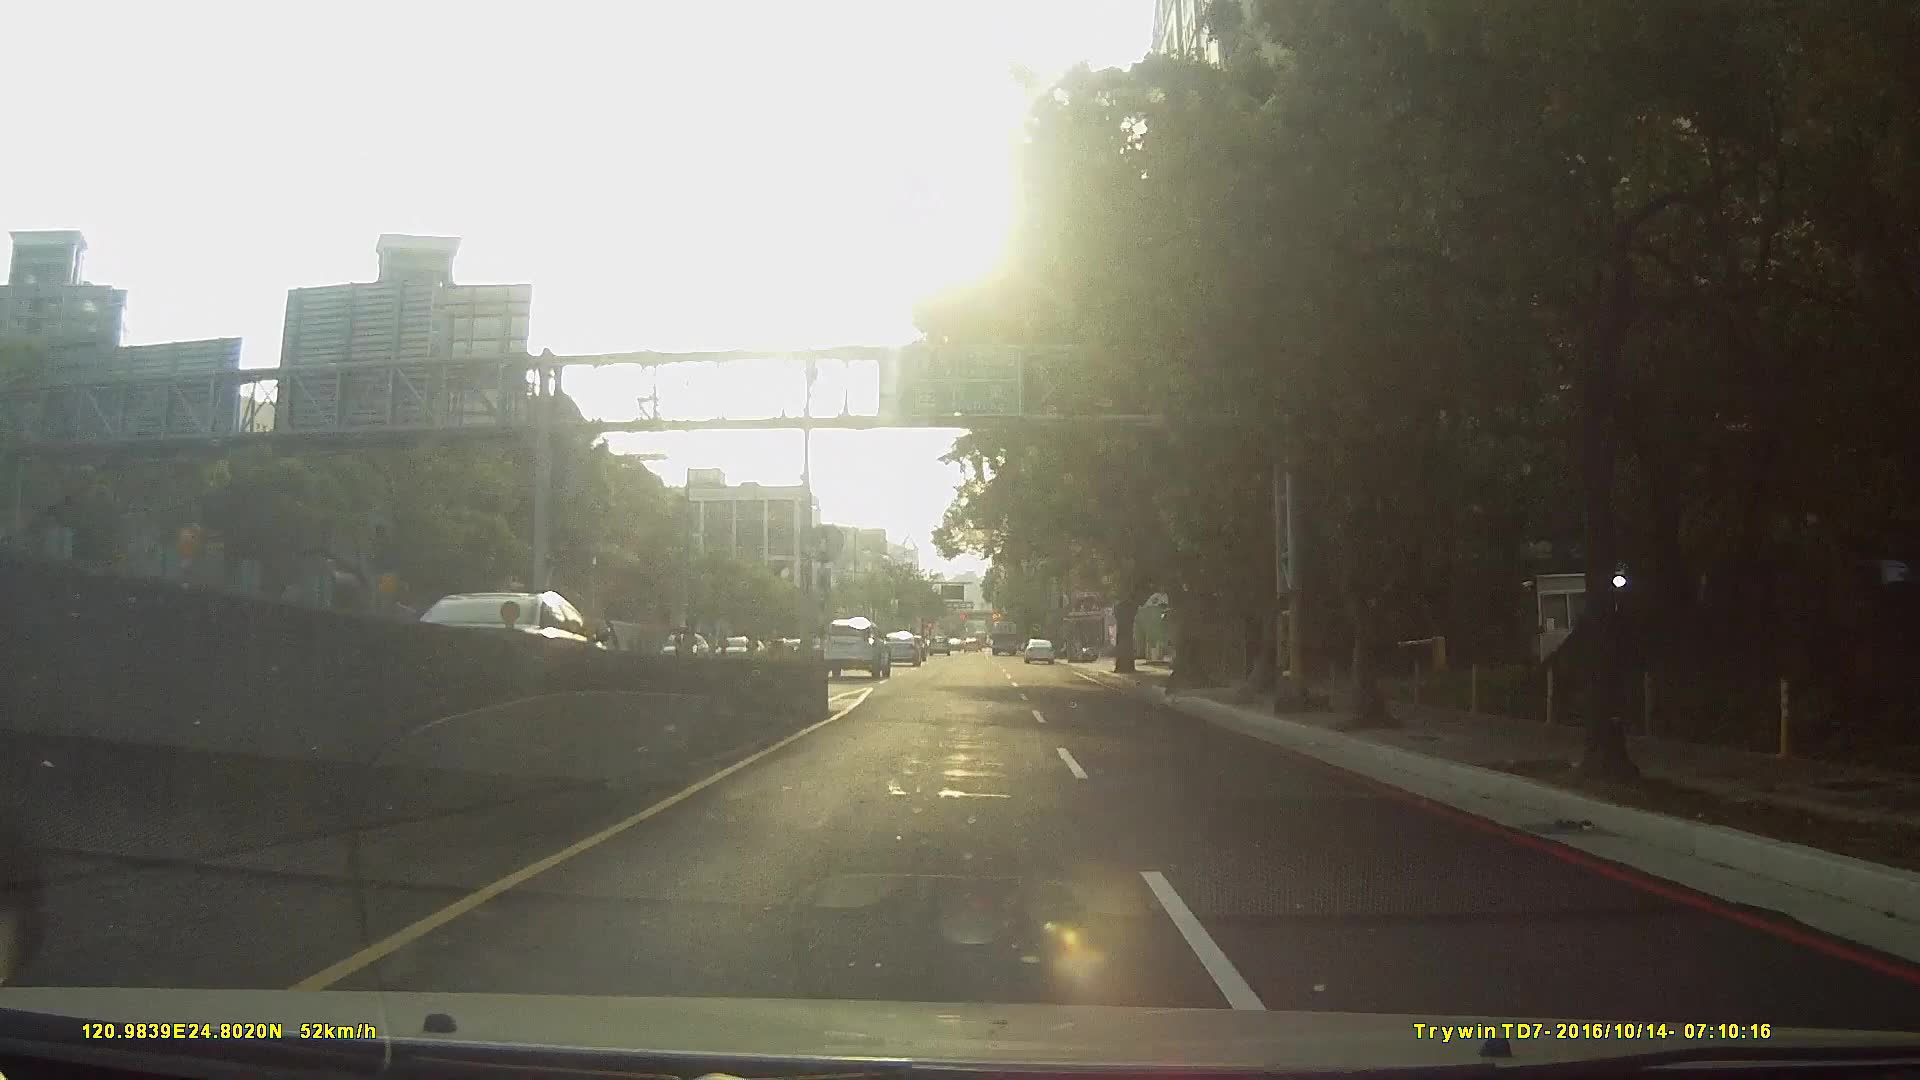vehicle: (820, 612, 891, 674), (880, 628, 923, 665), (986, 615, 1019, 651), (1021, 636, 1055, 662)
